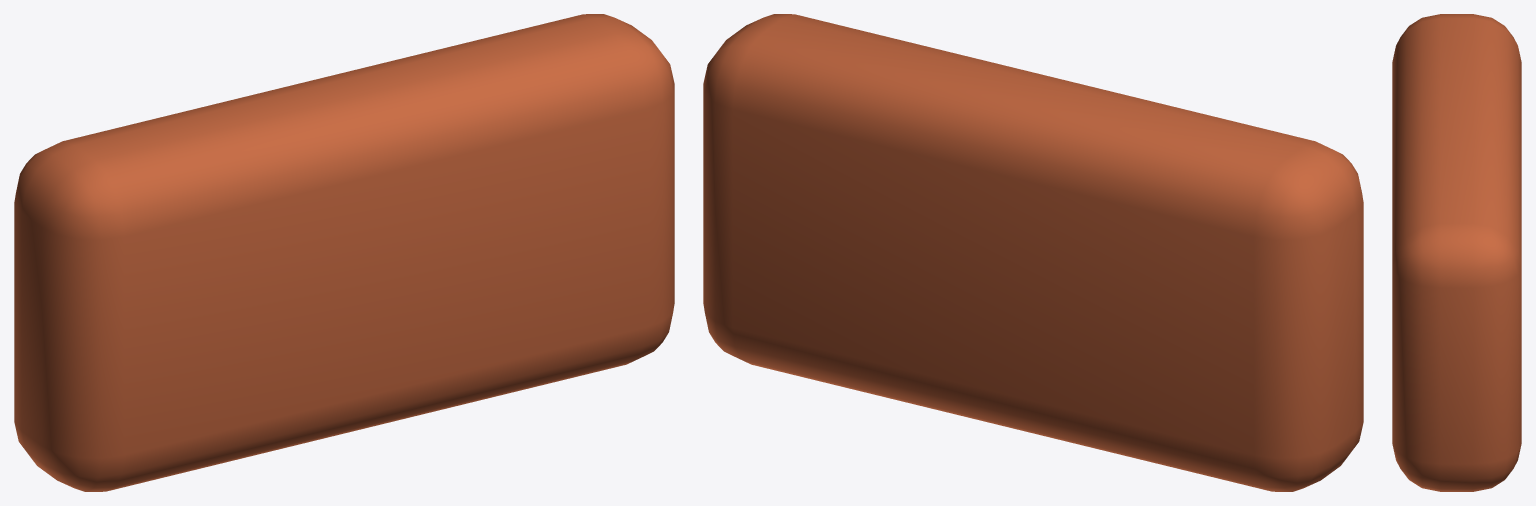
The model's file is angle_grinder_slide_switch.glb.
The picture shows the model from 3 angles, left to right: view 1: azimuth 30°, elevation 25°; view 2: azimuth 150°, elevation 25°; view 3: azimuth 270°, elevation 25°; orthographic projection. The views are drawn at different scales.
Parts seen in each view (by area): view 1: angle_grinder_slide_switch; view 2: angle_grinder_slide_switch; view 3: angle_grinder_slide_switch.
Part boxes in pixels (bbox=[...]): angle_grinder_slide_switch: bbox=[14, 14, 674, 491]; angle_grinder_slide_switch: bbox=[703, 14, 1363, 491]; angle_grinder_slide_switch: bbox=[1392, 14, 1521, 491].
Size of the model in its own units: 0.036 by 0.018 by 0.008.
